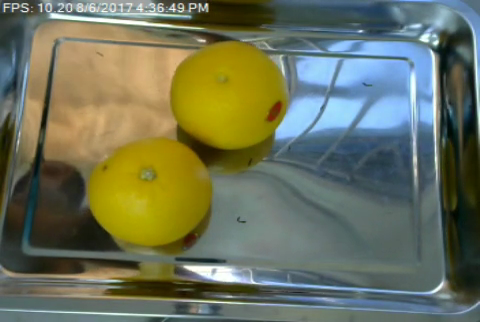Orange: (84, 137, 213, 245), (169, 42, 289, 150)
